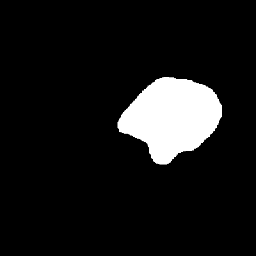mass: (122, 70, 235, 152)
